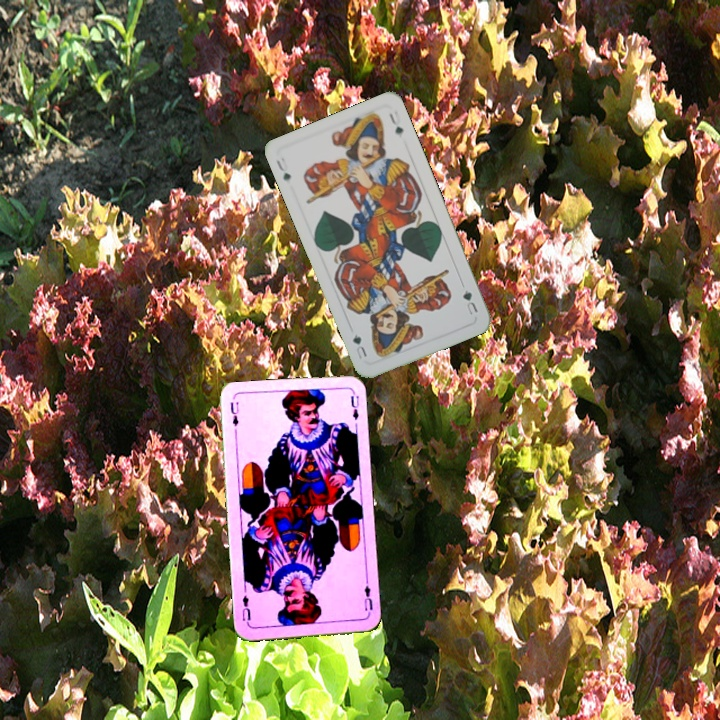EU: (360, 577, 375, 613), (226, 398, 241, 429)
GU: (459, 286, 481, 318), (272, 153, 293, 183)
